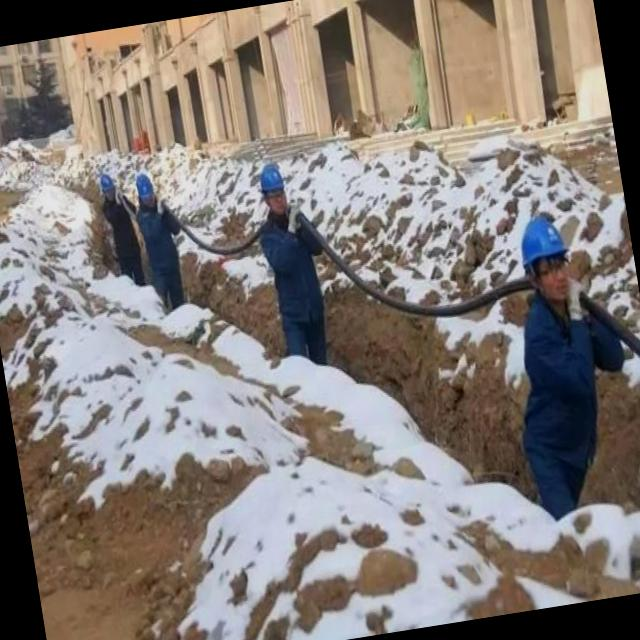helmet: (512, 208, 574, 275), (256, 160, 286, 197), (132, 172, 158, 205), (96, 172, 120, 195)
no-vest: (514, 303, 612, 478), (264, 213, 325, 322), (139, 205, 181, 286), (108, 199, 137, 266)
